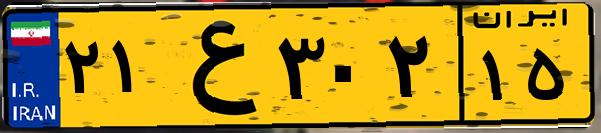0: (330, 28, 385, 110)
1: (475, 38, 525, 113), (110, 28, 158, 98)
2: (385, 28, 445, 110), (57, 26, 110, 100)
3: (270, 28, 330, 110)
5: (525, 38, 570, 115)
ع: (158, 12, 270, 120)
